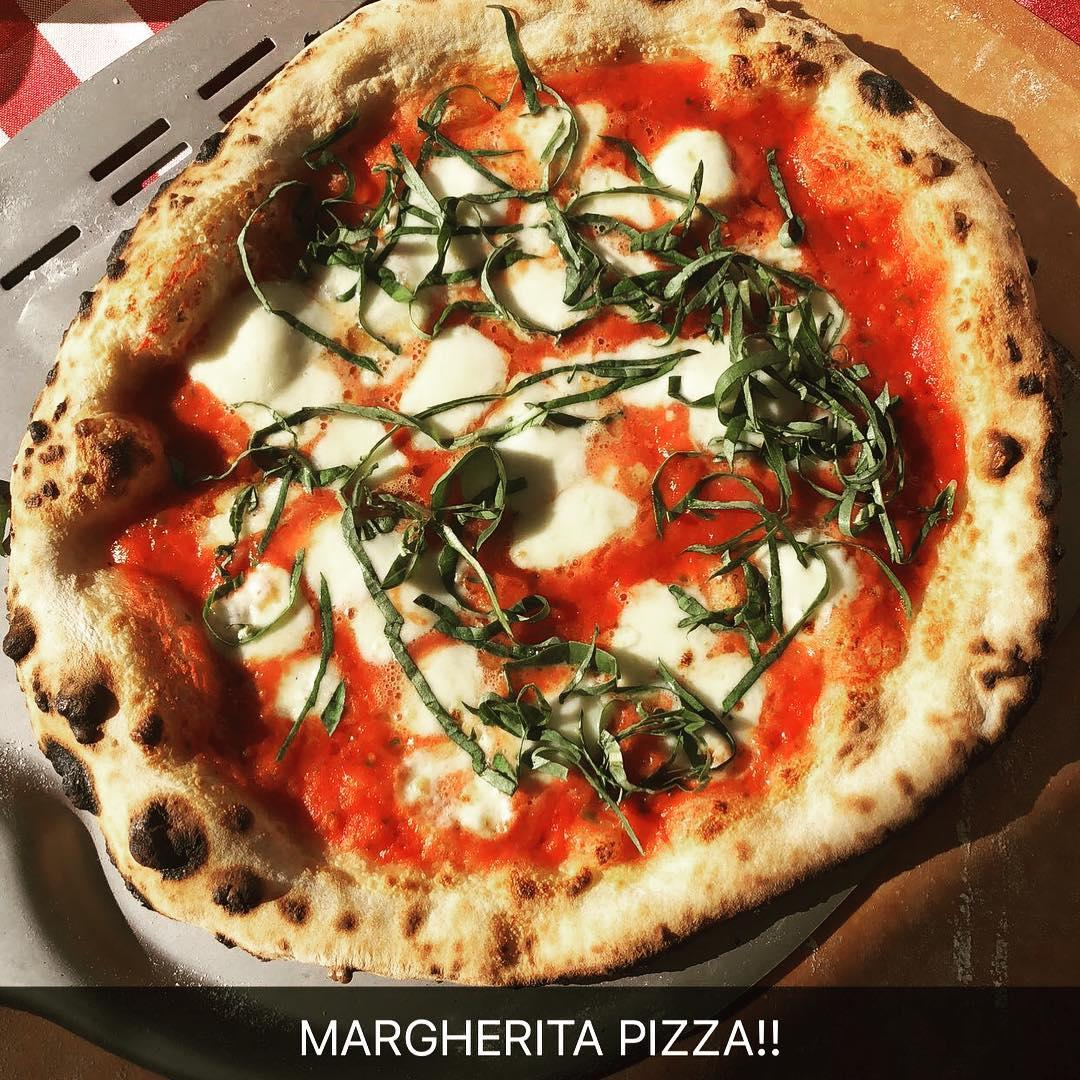Cheese: (528, 113, 733, 217), (393, 658, 517, 827), (500, 408, 628, 540), (201, 299, 329, 419), (305, 521, 434, 637), (618, 592, 741, 710), (625, 338, 752, 438), (205, 567, 304, 654), (489, 235, 579, 327), (415, 343, 491, 417)
Pizza: (0, 0, 1055, 980)
